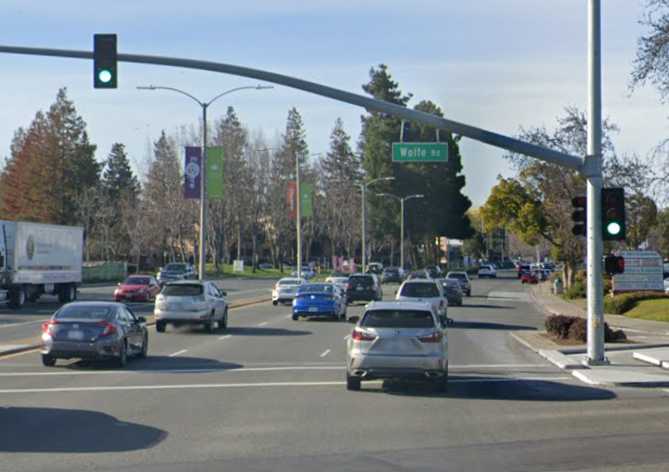green_light: (94, 35, 117, 89), (603, 189, 626, 242)
